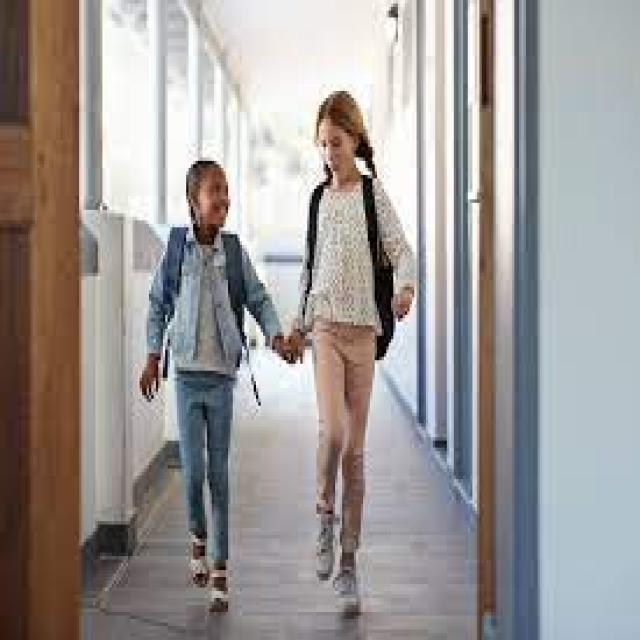Person: (139, 158, 289, 612), (288, 90, 414, 614)
